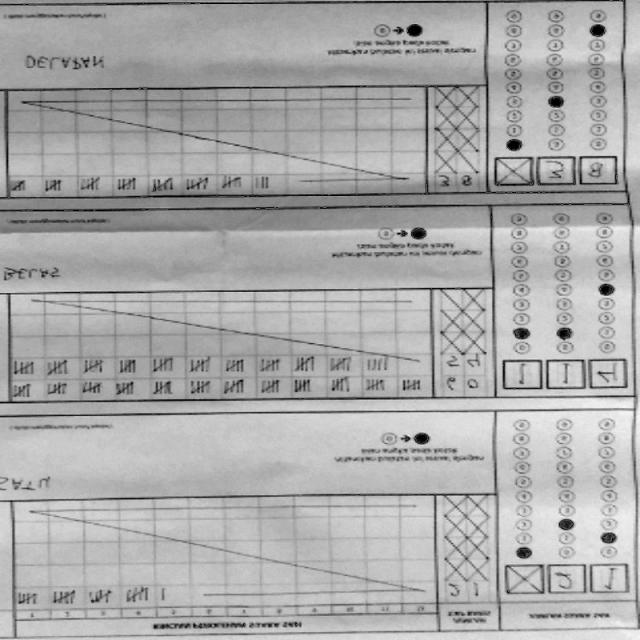Suara: (498, 560, 638, 603), (486, 150, 626, 192), (492, 356, 630, 398)
